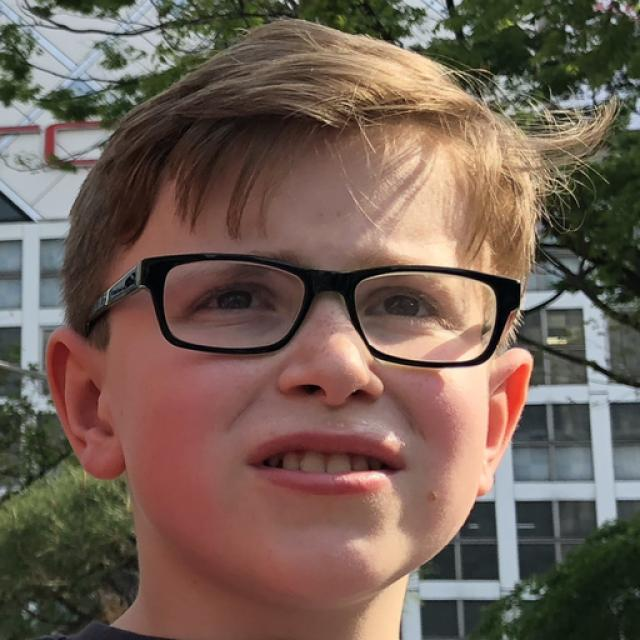disgust: (121, 121, 492, 605)
